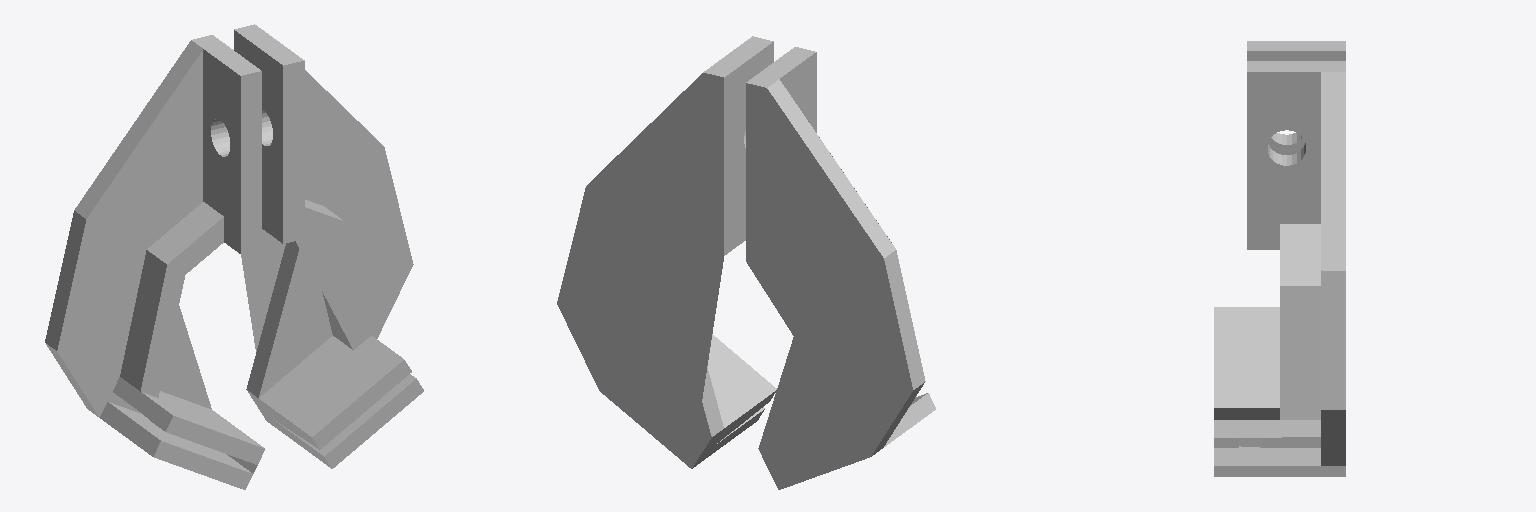
Rendered from RS_Jaws_v1.obj.
3 views of the same model, side by side, from view 1: azimuth 30°, elevation 25°; view 2: azimuth 150°, elevation 25°; view 3: azimuth 270°, elevation 25° (orthographic).
Visible parts, largest first — view 1: Mesh1 Group1 Model, Mesh2 Group2 Model; view 2: Mesh2 Group2 Model, Mesh1 Group1 Model; view 3: Mesh2 Group2 Model, Mesh1 Group1 Model.
Part boxes in pixels (left/top/right/bottom): Mesh1 Group1 Model: left=45, top=35, right=264, bottom=489; Mesh2 Group2 Model: left=234, top=24, right=423, bottom=468; Mesh2 Group2 Model: left=557, top=36, right=776, bottom=468; Mesh1 Group1 Model: left=746, top=47, right=935, bottom=489; Mesh2 Group2 Model: left=1214, top=61, right=1345, bottom=476; Mesh1 Group1 Model: left=1214, top=41, right=1345, bottom=419.
Bounding box in the file's own units: 33.47 × 35.85 × 10.7.